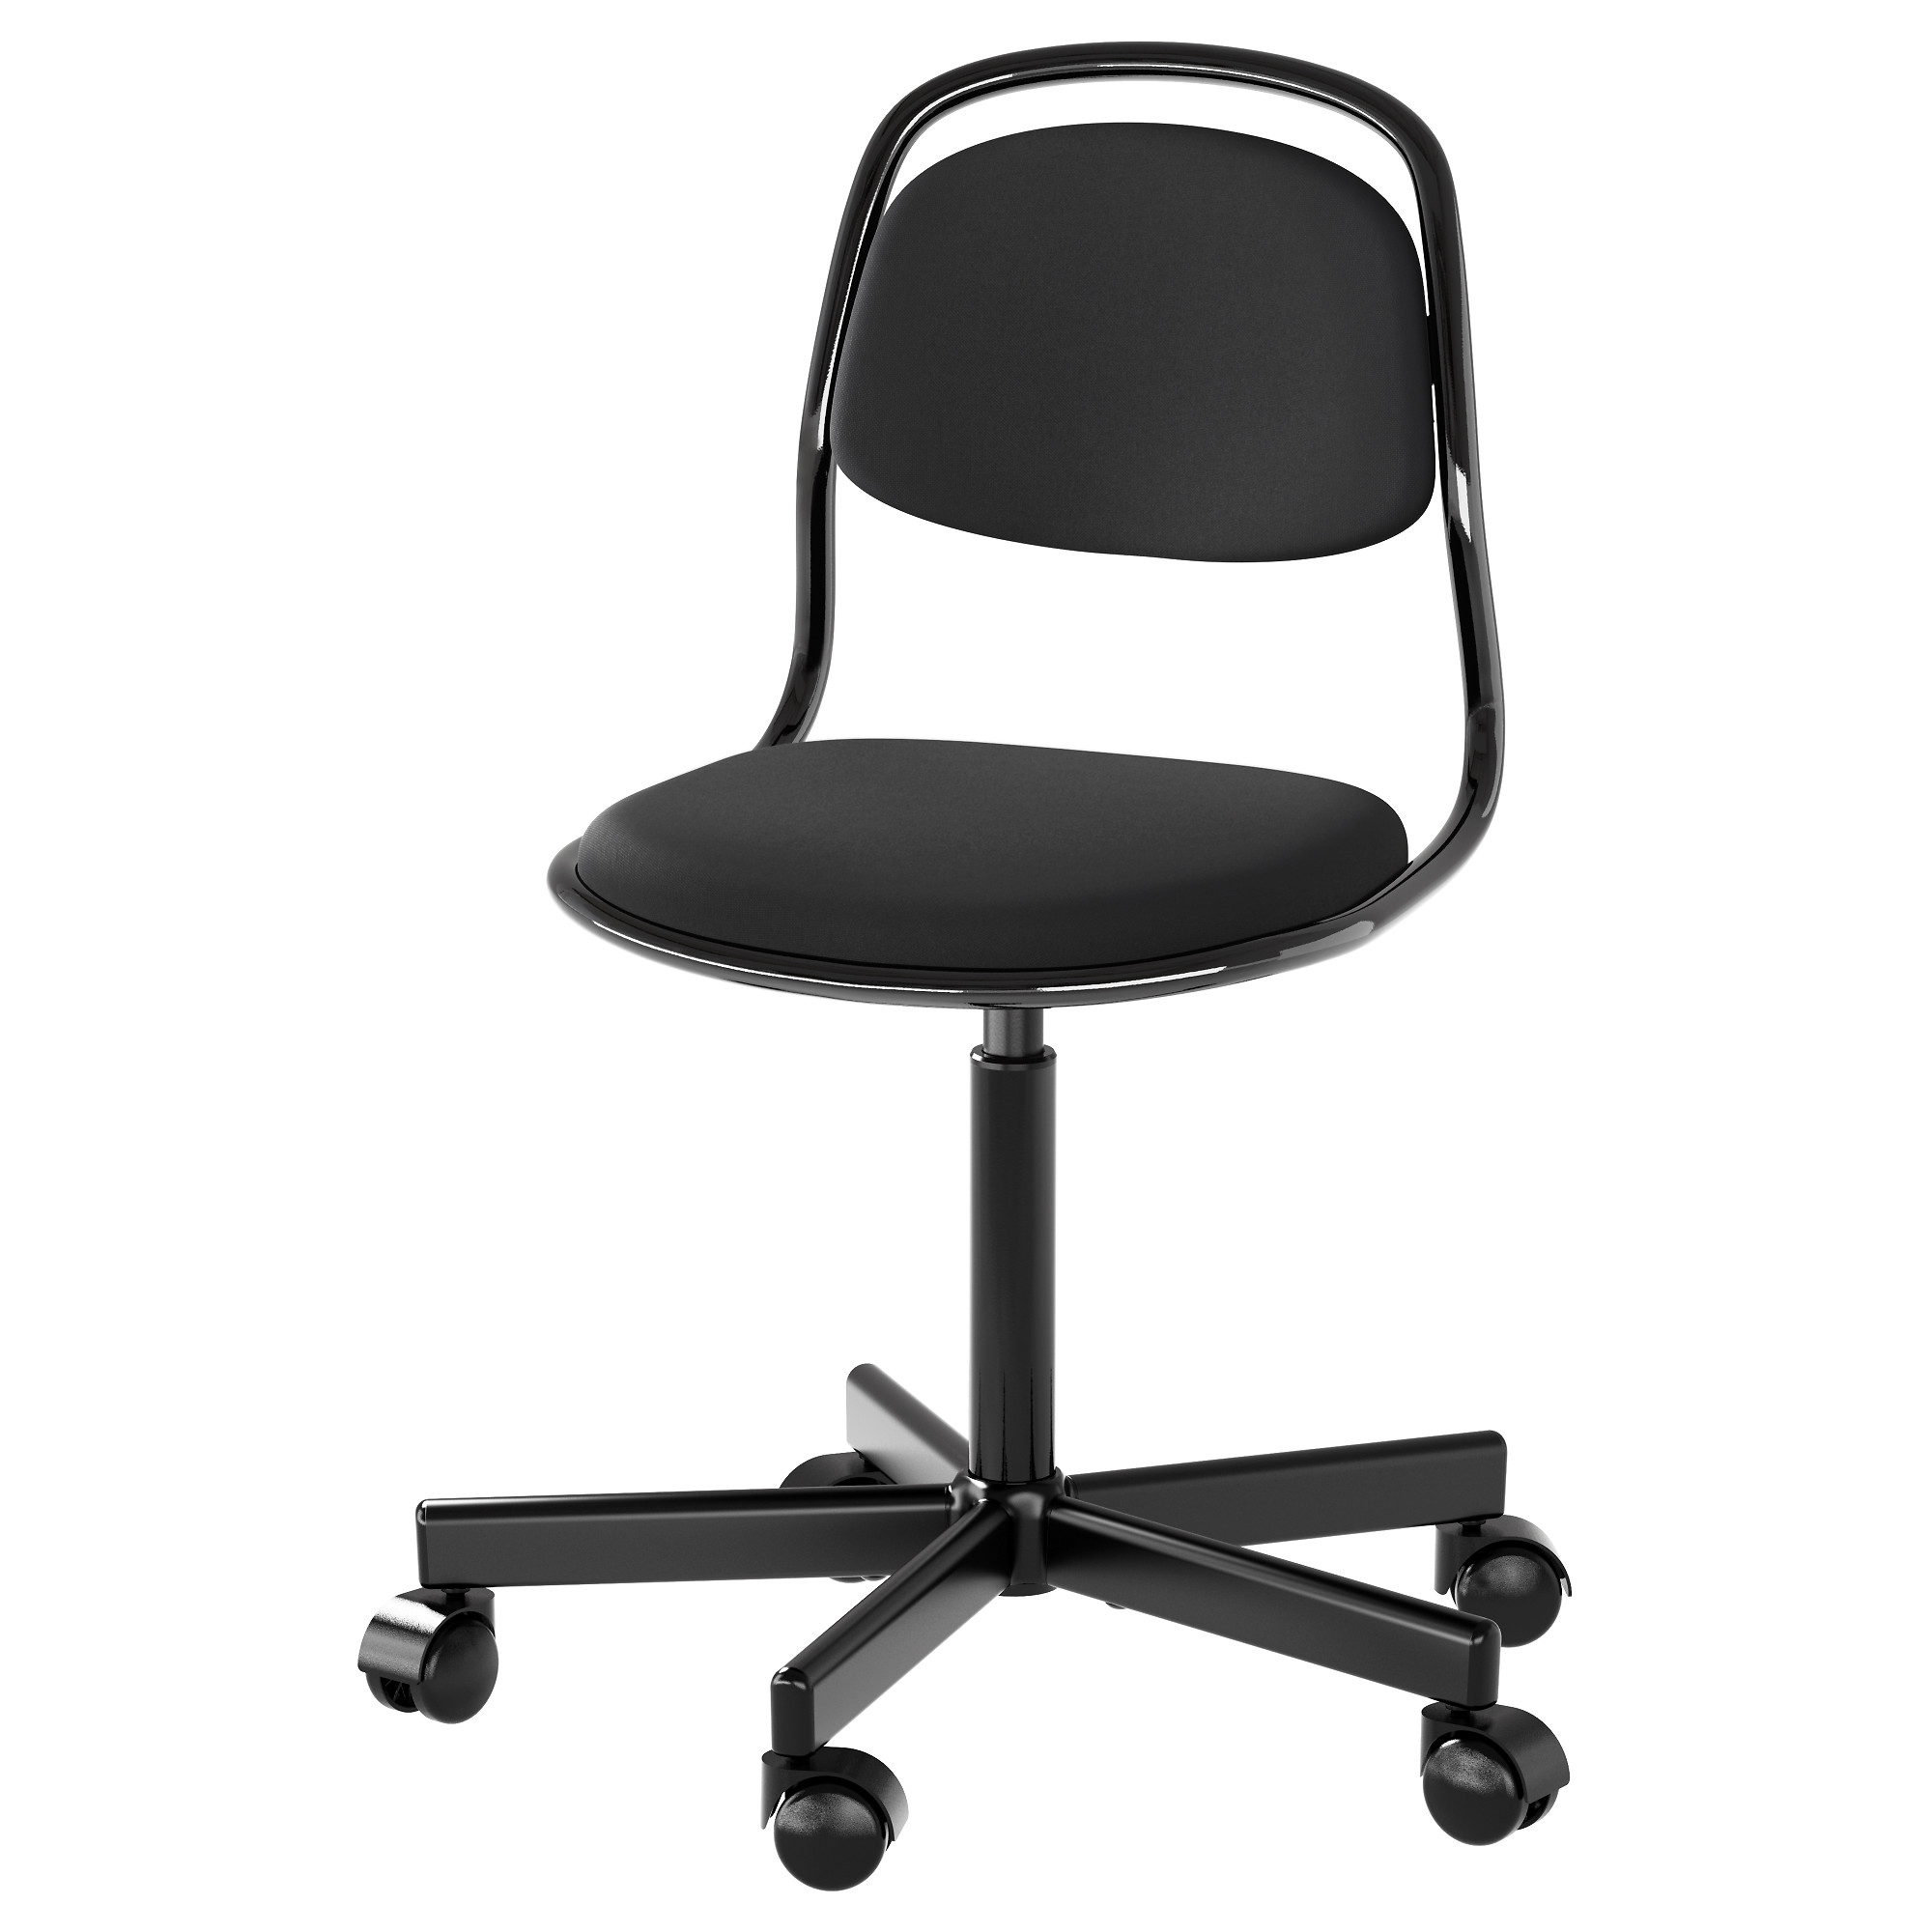chairs: (363, 35, 1583, 1900)
